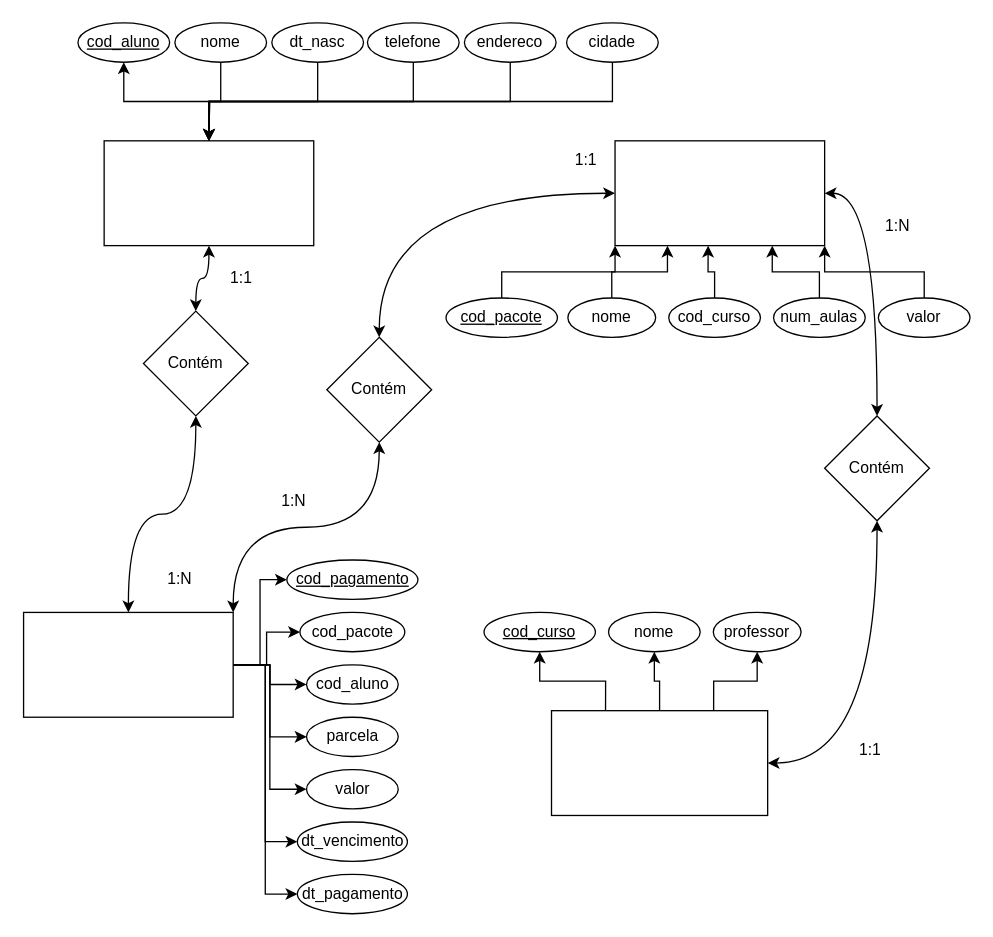
Image size: 993x937. Some labels were removed from this diagram. Here are the shapes that lost their labels. From the top down, the centre of each, then its label:
At pixel 208 193: "Aluno".
At pixel 719 193: "Pacote".
At pixel 127 664: "Pagamento".
At pixel 659 762: "Curso".
